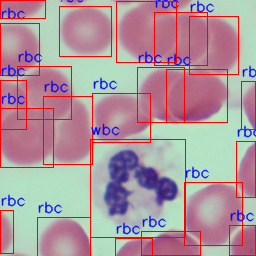rbc: (116, 1, 176, 62), (184, 182, 242, 245), (43, 96, 92, 164), (166, 69, 227, 122), (0, 108, 53, 167), (17, 66, 71, 119), (189, 16, 238, 74), (92, 93, 150, 142), (154, 12, 207, 65), (59, 6, 111, 56), (137, 67, 184, 122), (37, 217, 90, 256), (0, 23, 39, 75), (141, 231, 200, 255), (0, 80, 26, 129), (236, 141, 255, 197), (0, 0, 45, 18), (229, 225, 255, 255), (241, 81, 255, 129), (115, 238, 152, 256), (0, 210, 13, 253)
wbc: (90, 139, 185, 237)
